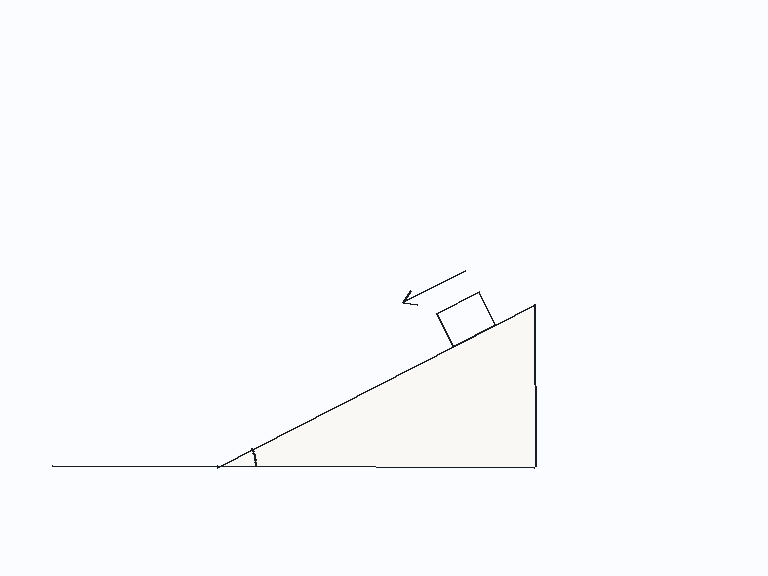block: (434, 290, 497, 348)
ramp: (214, 301, 537, 468)
